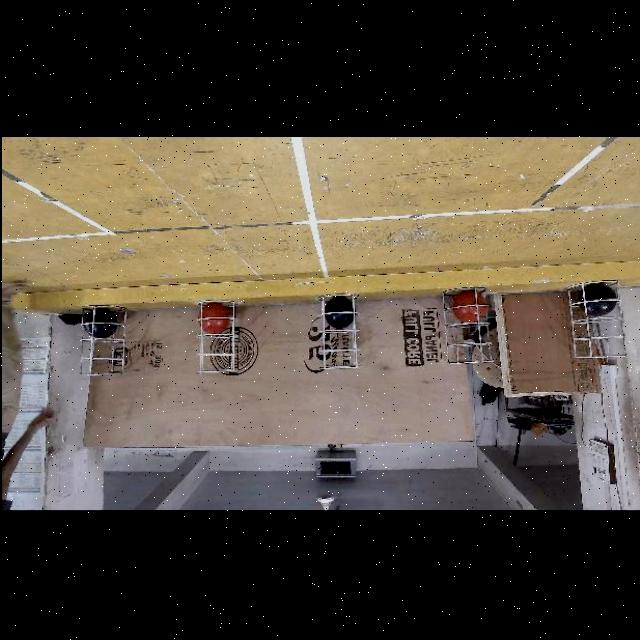P: (77, 306, 116, 339), (578, 284, 614, 316), (322, 296, 353, 328)
R: (452, 289, 486, 321), (195, 303, 229, 333)
S: (564, 280, 626, 364), (70, 302, 128, 380), (311, 294, 363, 372), (444, 286, 494, 366), (195, 300, 243, 372)
